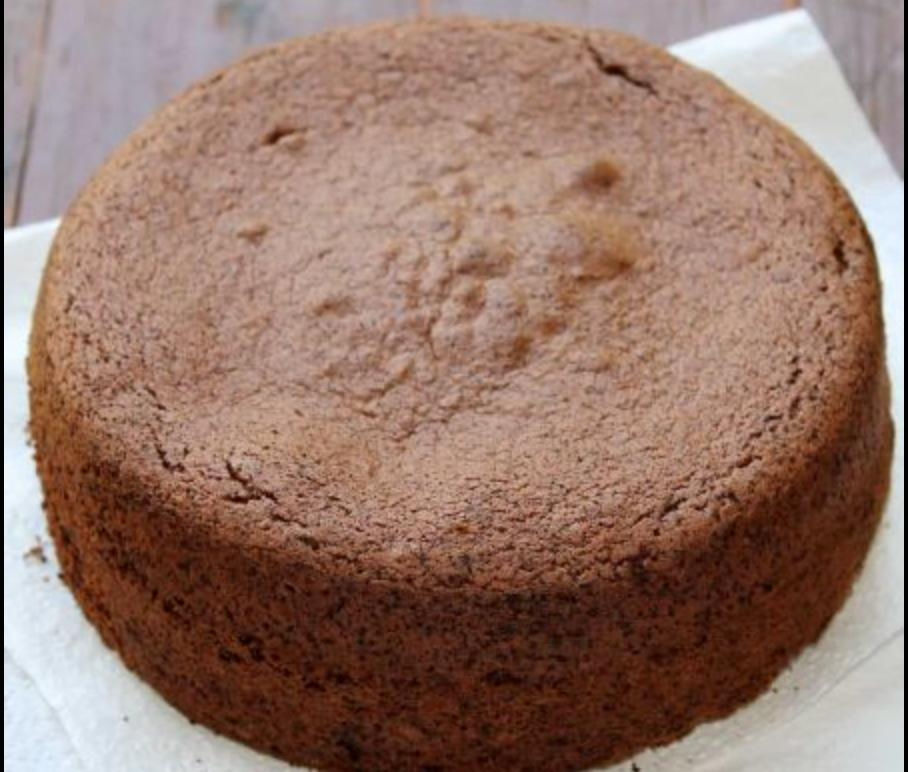Chocolate Cake: (23, 37, 899, 770)
